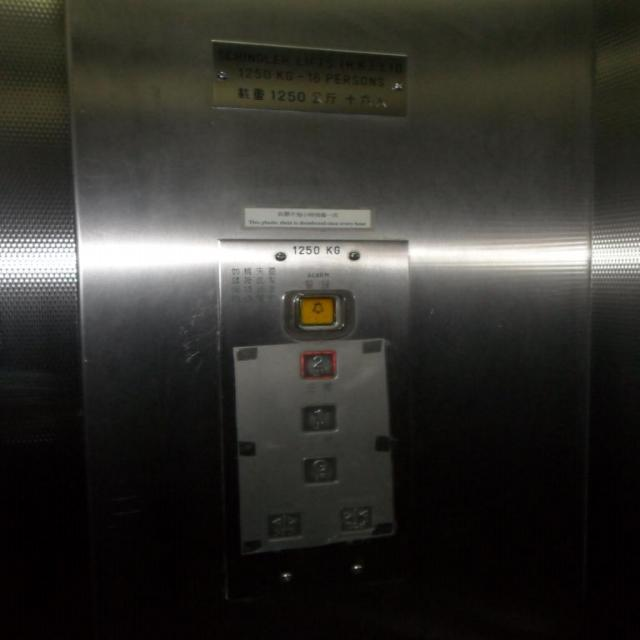1: (298, 402, 338, 432)
2: (300, 351, 337, 378)
G: (297, 455, 341, 485)
alarm: (294, 293, 344, 329)
close: (335, 503, 373, 531)
open: (265, 509, 306, 539)
